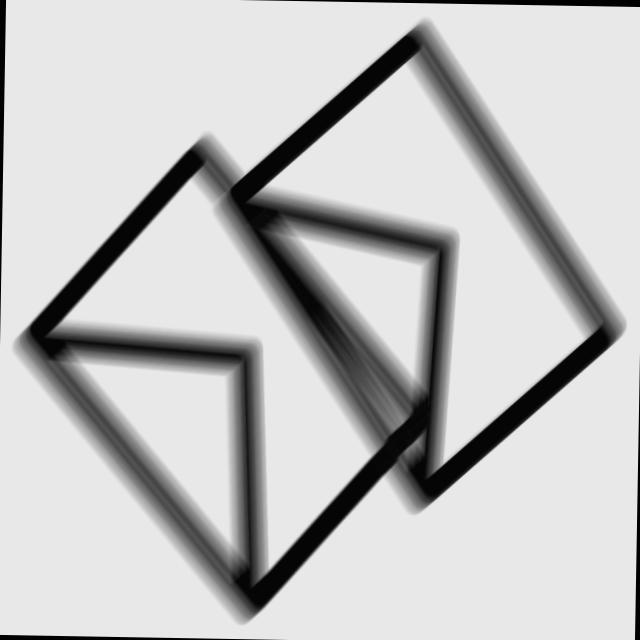letter: (4, 116, 454, 639), (211, 4, 640, 529)
